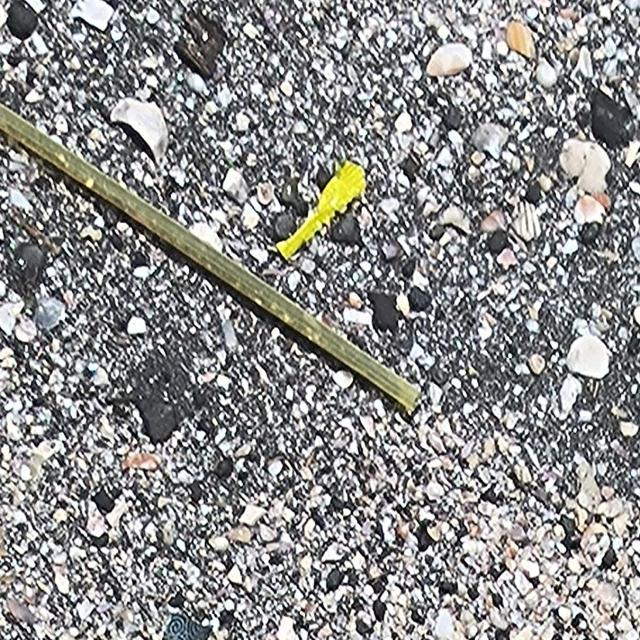plastic_waste: (0, 101, 424, 412)
